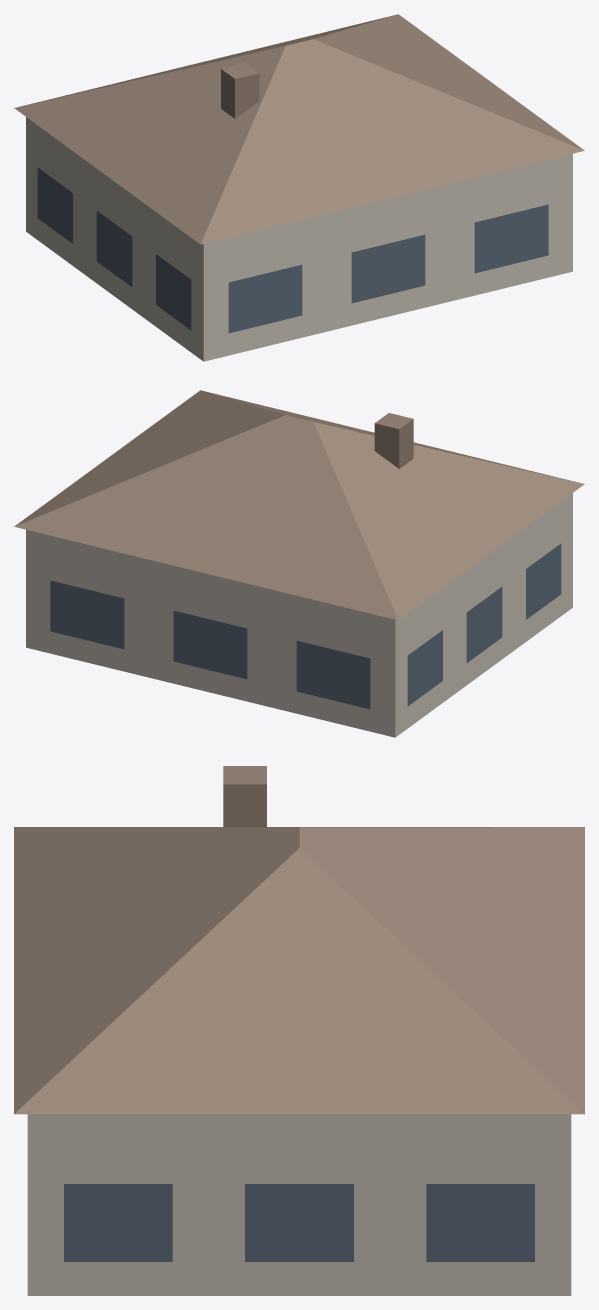
Rendered from house_02_hipped_manor.glb.
The picture shows the model from 3 angles, top to bottom: view 1: azimuth 30°, elevation 25°; view 2: azimuth 150°, elevation 25°; view 3: azimuth 270°, elevation 25°; orthographic projection. The views are drawn at different scales.
Parts seen in each view (by area): view 1: house_02_hipped_manor; view 2: house_02_hipped_manor; view 3: house_02_hipped_manor.
Part boxes in pixels (x1,y1,x2,y2): house_02_hipped_manor: [14, 14, 584, 361]; house_02_hipped_manor: [14, 390, 584, 737]; house_02_hipped_manor: [14, 766, 584, 1295].
Size of the model in its own units: 12.5 by 6.6 by 10.5.
